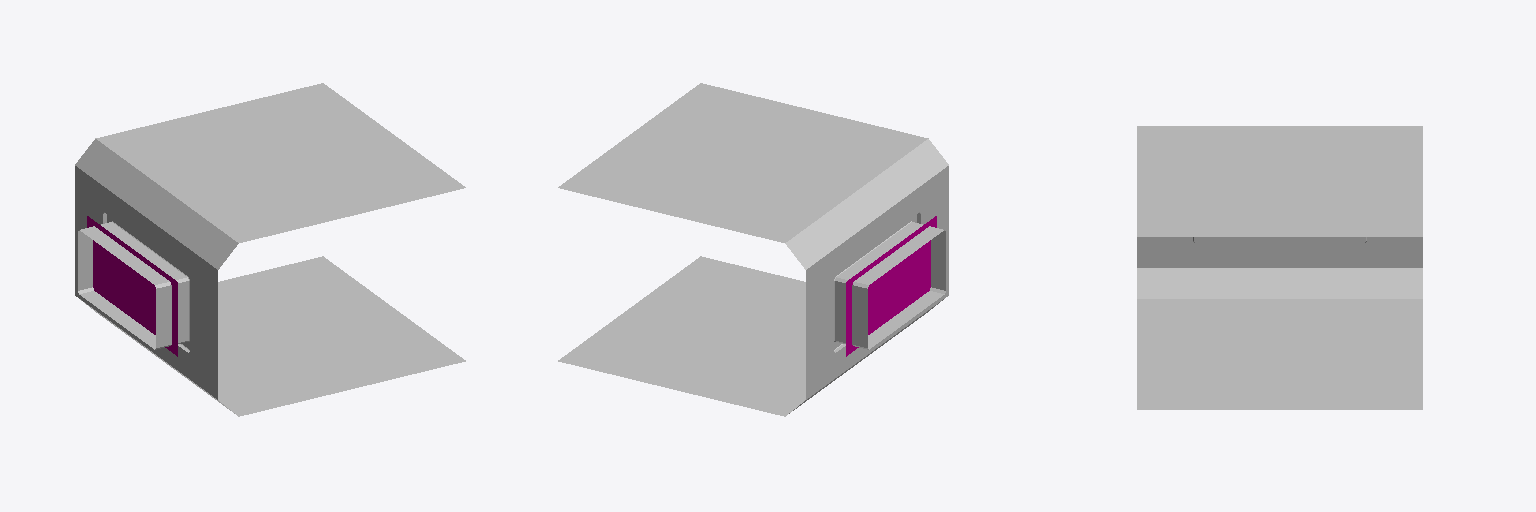
Rendered from Room_WallWindow 1.obj.
3 views of the same model, side by side, from view 1: azimuth 30°, elevation 25°; view 2: azimuth 150°, elevation 25°; view 3: azimuth 270°, elevation 25° (orthographic).
Parts seen in each view (by area): view 1: RoomWall.001_Cube.039; view 2: RoomWall.001_Cube.039; view 3: RoomWall.001_Cube.039.
Part boxes in pixels (x1,y1,x2,y2): RoomWall.001_Cube.039: (75,83,465,416); RoomWall.001_Cube.039: (558,83,948,416); RoomWall.001_Cube.039: (1137,126,1422,409).
Bounding box in the file's own units: 6.71 × 4 × 6.